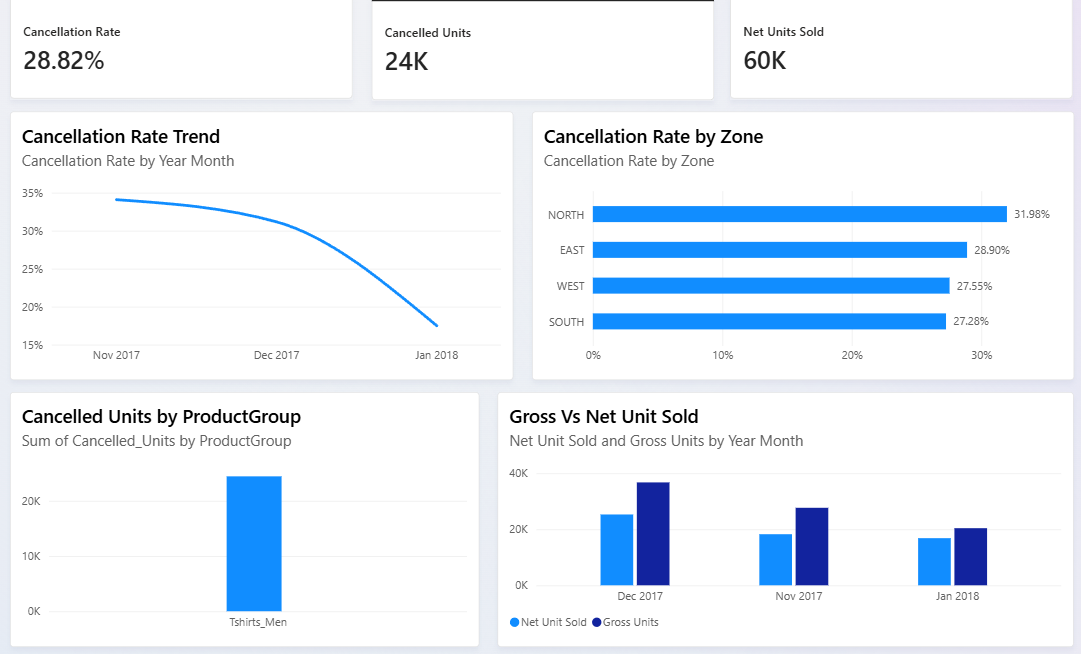

Layout of this report page (visuals, bound fields, positions):
{"tool":"powerbi","page":{"name":"Cancellation & Loss Analysis","canvas":[1280,720],"ordinal":1},"visuals":[{"type":"cardVisual","fields":{"Data":["Sales Raw.Cancellation Rate"]},"box":[96.7,0,370,111.7],"z":0},{"type":"cardVisual","fields":{"Data":["Sum(Sales Raw.Cancelled_Units)"]},"box":[486.7,1.7,370,111.7],"z":1000},{"type":"cardVisual","fields":{"Data":["Sales Raw.Net Unit Sold"]},"box":[875,0,370,111.7],"z":2000},{"type":"lineChart","title":"Cancellation Rate Trend","fields":{"Y":["Sales Raw.Cancellation Rate"],"Category":["DateTable.Year Month"]},"box":[96.7,125,543.3,290],"z":3000},{"type":"clusteredColumnChart","title":" Cancelled Units by ProductGroup","fields":{"Y":["Sum(Sales Raw.Cancelled_Units)"],"Category":["ProductMap.ProductGroup"]},"box":[96.7,426.7,506.7,275],"z":4000},{"type":"barChart","title":"Cancellation Rate  by  Zone","fields":{"Y":["Sales Raw.Cancellation Rate"],"Category":["PinCode-Geo.Zone"]},"box":[660,125,585,290],"z":5000},{"type":"clusteredColumnChart","title":"Gross Vs Net Unit Sold","fields":{"Category":["DateTable.Year Month"],"Y":["Sales Raw.Net Unit Sold","CityTier.Gross Units"]},"box":[623.3,426.7,621.7,275],"z":6000}]}

Visuals, with their boxes on the page's 1280x720 design canvas (x1, y1, x2, y2). These are canvas units, not pixel positions in the 1081x654 screenshot, which may show the page scaled, cropped or inside an application window:
cardVisual - Sales Raw.Cancellation Rate: locate(97, 0, 467, 112)
cardVisual - Sum(Sales Raw.Cancelled_Units): locate(487, 2, 857, 113)
cardVisual - Sales Raw.Net Unit Sold: locate(875, 0, 1245, 112)
"Cancellation Rate Trend" lineChart: locate(97, 125, 640, 415)
" Cancelled Units by ProductGroup" clusteredColumnChart: locate(97, 427, 603, 702)
"Cancellation Rate  by  Zone" barChart: locate(660, 125, 1245, 415)
"Gross Vs Net Unit Sold" clusteredColumnChart: locate(623, 427, 1245, 702)
